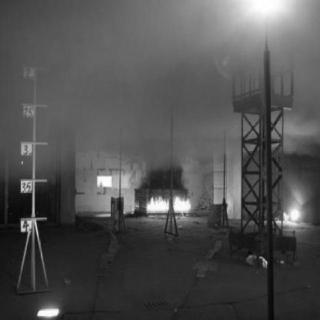Fire: (172, 193, 190, 213), (147, 196, 169, 212)
other: (246, 1, 288, 27), (281, 200, 305, 226), (38, 304, 62, 317), (96, 173, 112, 187)
